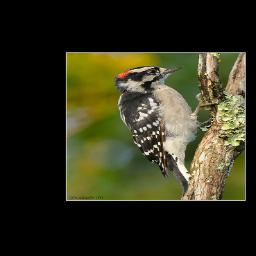Woodpecker: (111, 66, 216, 196)
